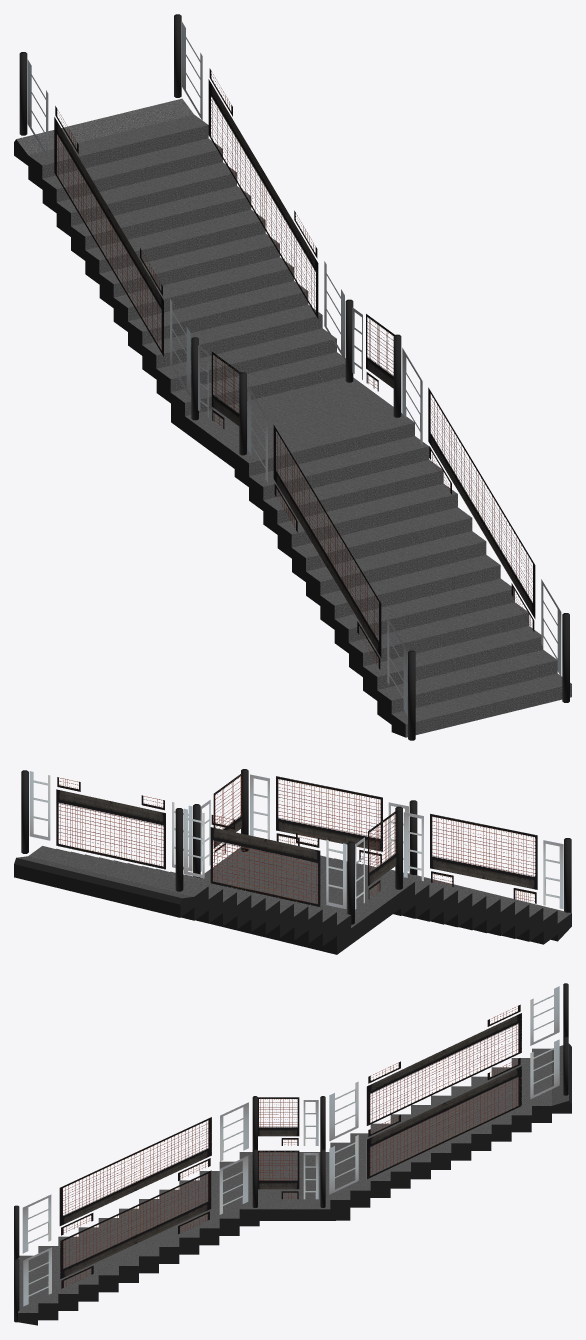
File: stairs.fbx
3 views of the same model, one above another, from view 1: azimuth 30°, elevation 25°; view 2: azimuth 150°, elevation 25°; view 3: azimuth 270°, elevation 25° (orthographic). The views are drawn at different scales.
Visible parts, largest first — view 1: YellowCorner_Stairs, Railing1, Railing2; view 2: YellowCorner_Stairs, Railing1, Railing2; view 3: YellowCorner_Stairs, Railing2, Railing1.
Part boxes in pixels (bbox=[...]): YellowCorner_Stairs: bbox=[14, 98, 571, 737]; Railing1: bbox=[19, 52, 415, 740]; Railing2: bbox=[174, 14, 569, 702]; YellowCorner_Stairs: bbox=[14, 846, 571, 954]; Railing1: bbox=[175, 806, 571, 924]; Railing2: bbox=[21, 769, 417, 878]; YellowCorner_Stairs: bbox=[18, 1043, 571, 1325]; Railing2: bbox=[14, 1036, 568, 1322]; Railing1: bbox=[14, 983, 568, 1259].
Size of the model in its own units: 200 by 465 by 823.
